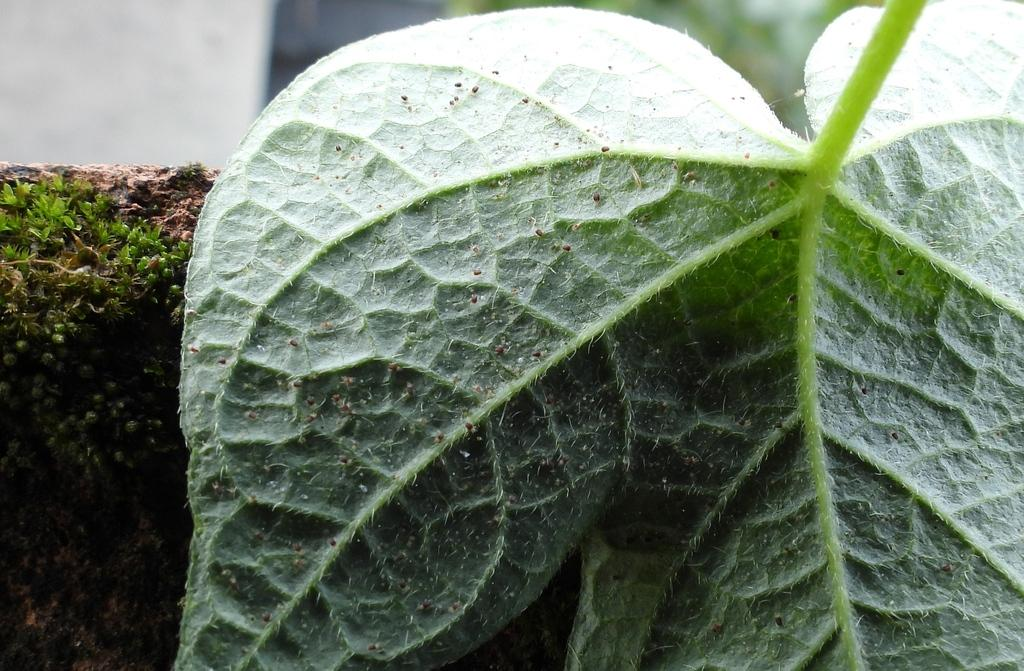tiny_pests: (283, 370, 357, 431), (437, 72, 485, 112), (244, 406, 262, 427), (557, 240, 575, 259), (489, 342, 507, 357), (532, 225, 546, 238)
